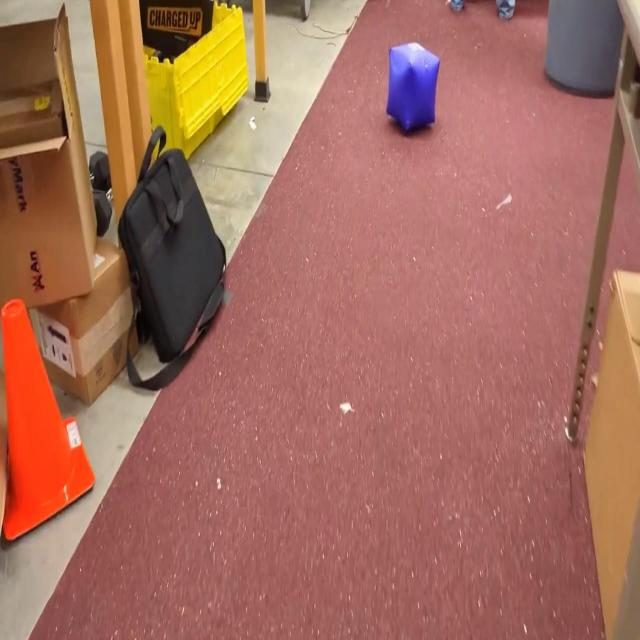frc_cube: (386, 40, 442, 137)
